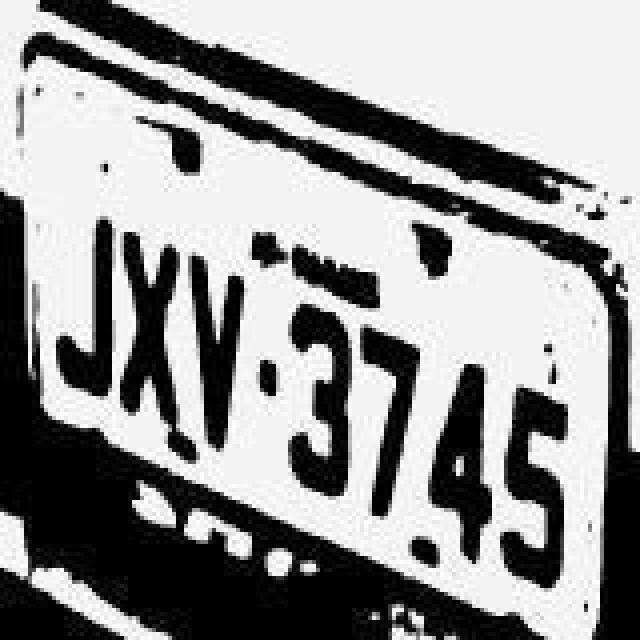3: (278, 298, 354, 502)
4: (432, 342, 496, 570)
5: (500, 386, 572, 606)
7: (356, 318, 420, 530)
J: (44, 190, 116, 418)
V: (182, 248, 250, 448)
X: (118, 206, 186, 434)
